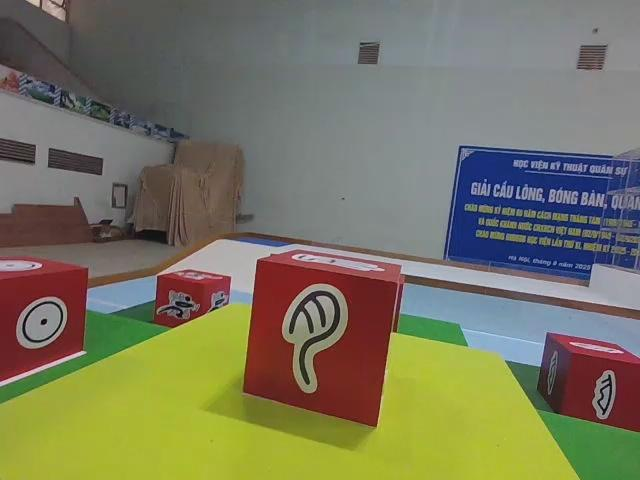R1: (154, 267, 232, 327)
R2 Fake: (243, 246, 403, 426)
R2 Real: (0, 254, 89, 382), (537, 331, 640, 432)
